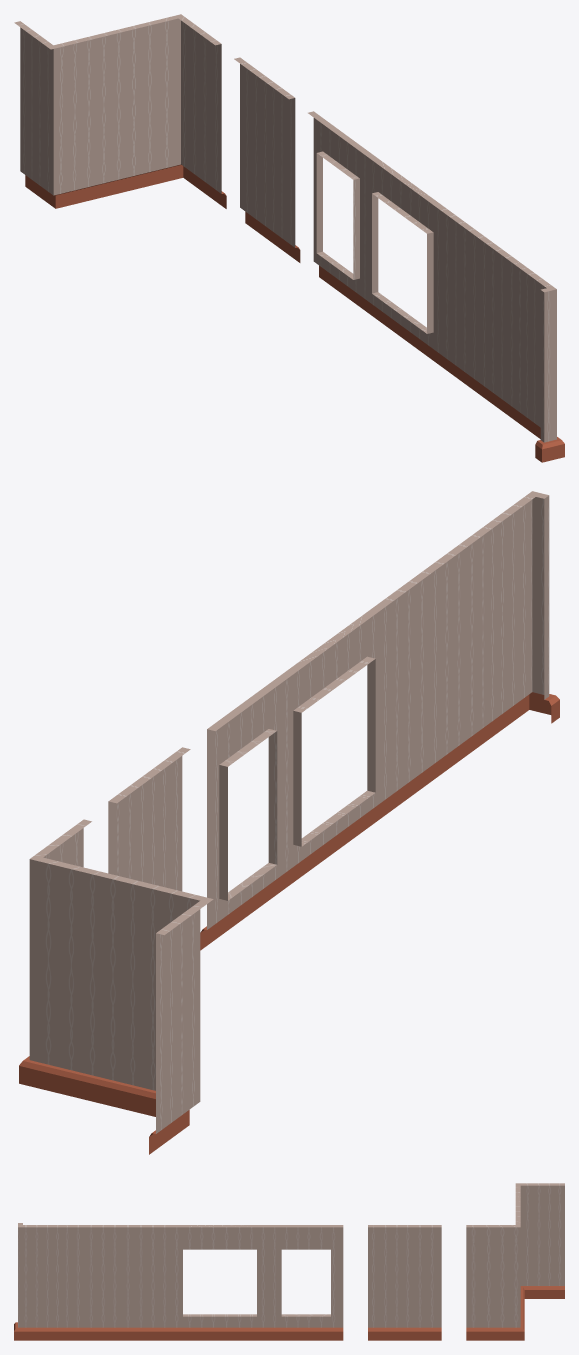
Rendered from Striped_walls_inside.fbx.
The picture shows the model from 3 angles, top to bottom: view 1: azimuth 30°, elevation 25°; view 2: azimuth 150°, elevation 25°; view 3: azimuth 270°, elevation 25°; orthographic projection. The views are drawn at different scales.
Parts seen in each view (by area): view 1: Wall_Inside_outerCorner, Wall_Inside_innerCorner, Wall_Inside_2meters, Wall_Inside_1.5meter, Wall_Inside_BigWindow, Wall_Inside_smallWindow, Wall_Inside_1meter, Wall_Inside_End; view 2: Wall_Inside_outerCorner, Wall_Inside_2meters, Wall_Inside_innerCorner, Wall_Inside_BigWindow, Wall_Inside_smallWindow, Wall_Inside_1meter, Wall_Inside_1.5meter, Wall_Inside_End; view 3: Wall_Inside_2meters, Wall_Inside_1.5meter, Wall_Inside_BigWindow, Wall_Inside_outerCorner, Wall_Inside_1meter, Wall_Inside_smallWindow, Wall_Inside_innerCorner, Wall_Inside_End.
Boxes of the visible parts, x1,y1,x2,y2 form: Wall_Inside_outerCorner: (108,14,226,208); Wall_Inside_innerCorner: (14,21,113,208); Wall_Inside_2meters: (436,205,521,424); Wall_Inside_1.5meter: (234,57,300,262); Wall_Inside_BigWindow: (363,152,447,370); Wall_Inside_smallWindow: (308,111,373,316); Wall_Inside_1meter: (510,259,552,438); Wall_Inside_End: (535,286,564,462); Wall_Inside_outerCorner: (19,819,127,1107); Wall_Inside_2meters: (372,531,485,824); Wall_Inside_innerCorner: (119,878,213,1154); Wall_Inside_BigWindow: (274,603,387,896); Wall_Inside_smallWindow: (200,675,288,950); Wall_Inside_1meter: (471,494,535,751); Wall_Inside_1.5meter: (108,747,190,891); Wall_Inside_End: (520,491,559,723); Wall_Inside_2meters: (72,1225,170,1340); Wall_Inside_1.5meter: (368,1225,441,1340); Wall_Inside_BigWindow: (170,1225,269,1340); Wall_Inside_outerCorner: (466,1204,524,1340); Wall_Inside_1meter: (23,1225,71,1340); Wall_Inside_smallWindow: (269,1225,343,1340); Wall_Inside_innerCorner: (515,1183,564,1306); Wall_Inside_End: (14,1223,22,1340).
Size of the model in its own units: 218 by 250 by 1118.
